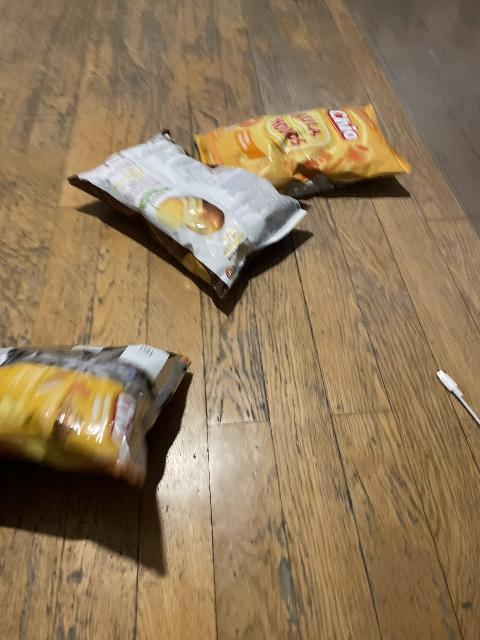Chio Cascaval 125g: (0, 344, 192, 487)
Chio Hula Hoops Cheese 70g: (195, 102, 410, 193)
Lays Beef Grilled Ribs 125g: (69, 128, 309, 300)
